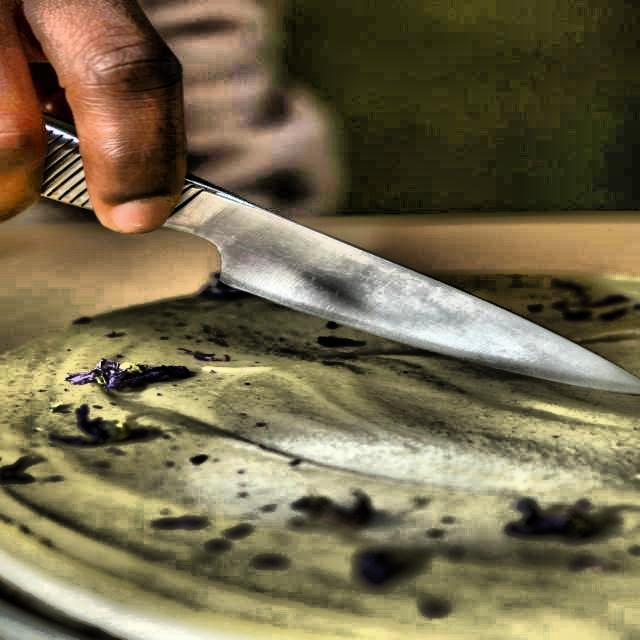knife: (6, 114, 640, 395)
